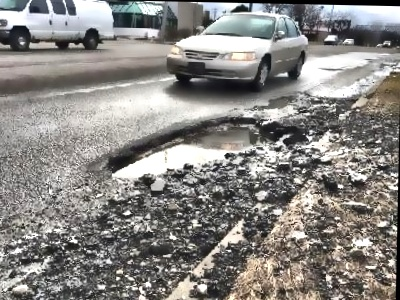pothole: (105, 110, 277, 186), (253, 90, 302, 113)
